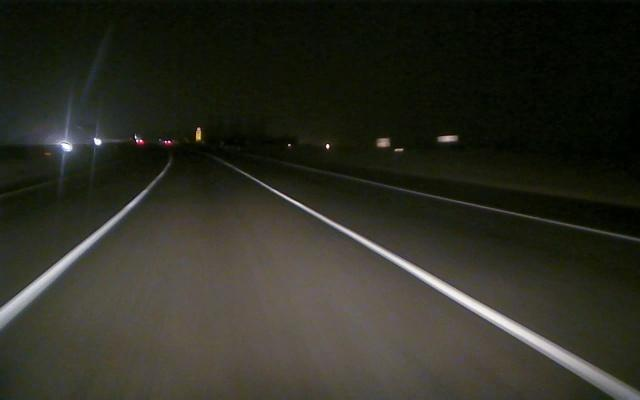lane: (226, 163, 632, 397), (1, 180, 156, 329), (325, 171, 640, 242)
